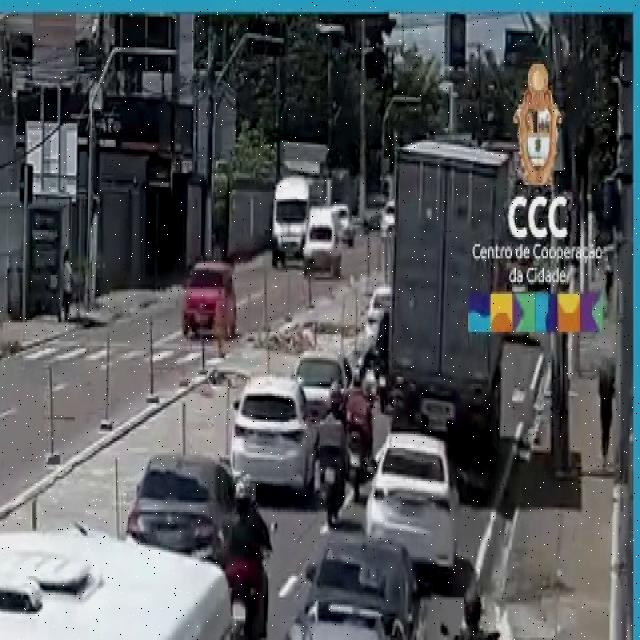biker: (225, 460, 283, 640), (315, 373, 351, 517), (440, 573, 508, 640)
car: (370, 432, 456, 584), (232, 366, 315, 503), (257, 604, 419, 640), (183, 261, 240, 349)
truck: (392, 119, 511, 479), (0, 531, 233, 640)
